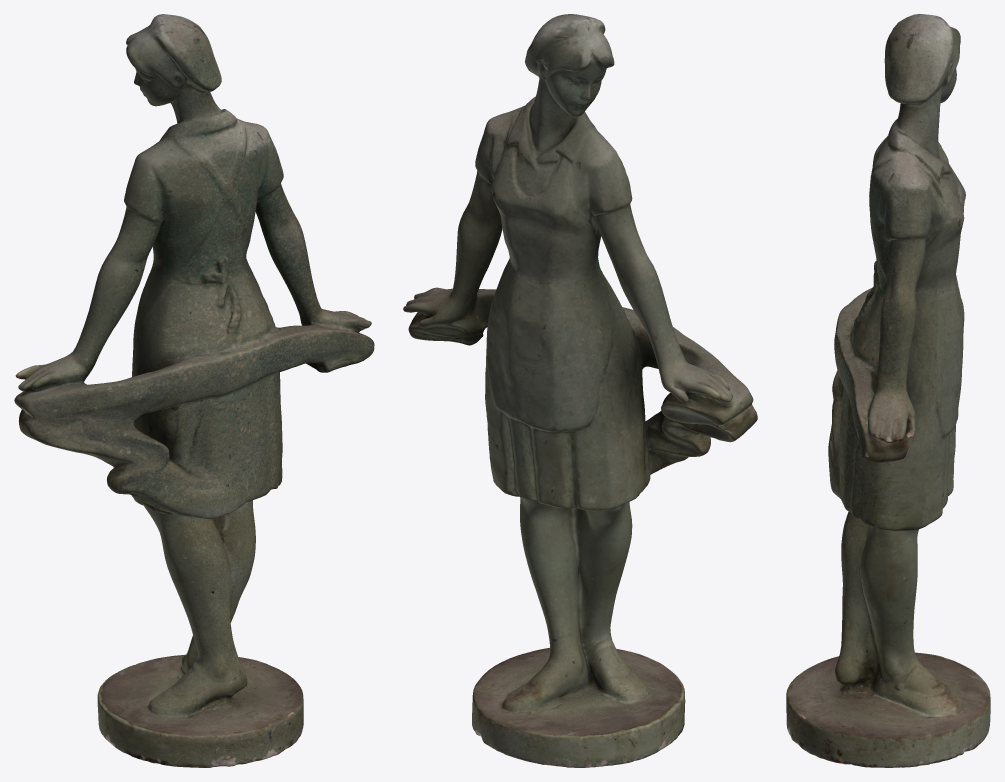
File: renxiang.glb
3 views of the same model, side by side, from view 1: azimuth 30°, elevation 25°; view 2: azimuth 150°, elevation 25°; view 3: azimuth 270°, elevation 25° (orthographic). The views are drawn at different scales.
Visible parts, largest first — view 1: UV1-8.001; view 2: UV1-8.001; view 3: UV1-8.001.
Boxes of the visible parts, left/top/right/bottom form: UV1-8.001: left=14, top=14, right=374, bottom=767; UV1-8.001: left=403, top=14, right=757, bottom=767; UV1-8.001: left=786, top=14, right=990, bottom=767.
Bounding box in the file's own units: 3.04 × 5.99 × 1.58.
1 material, 1 textured.
